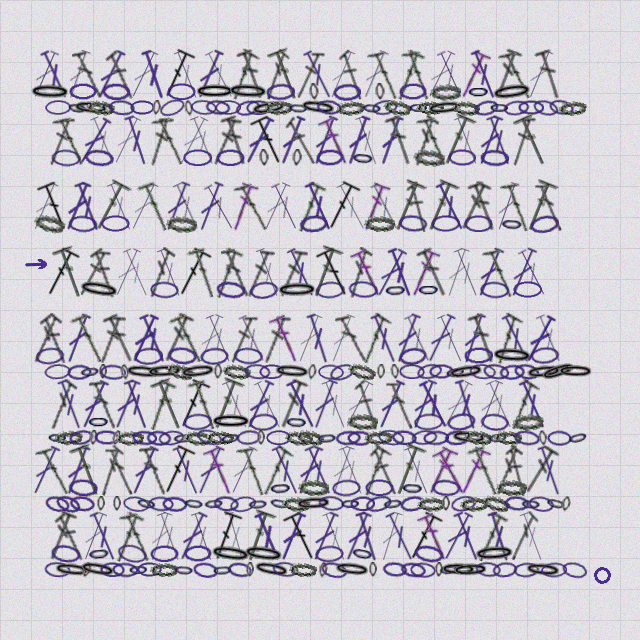chain: (77, 278, 121, 301), (539, 359, 578, 384), (490, 81, 534, 103), (209, 543, 252, 565), (242, 543, 285, 565), (78, 559, 117, 580), (252, 559, 291, 580), (473, 544, 516, 563), (227, 82, 269, 101), (491, 346, 533, 365), (32, 212, 66, 235), (250, 98, 288, 118), (447, 362, 485, 382), (29, 83, 71, 101), (276, 281, 318, 299), (116, 542, 148, 565), (299, 98, 337, 117), (179, 362, 217, 381), (333, 560, 371, 579), (194, 83, 236, 100), (210, 413, 252, 430), (72, 99, 110, 117), (426, 99, 464, 117), (124, 363, 162, 381), (525, 363, 563, 381), (53, 561, 91, 579), (524, 561, 562, 579), (529, 213, 560, 235), (413, 543, 444, 565), (158, 96, 187, 119), (446, 411, 477, 432), (50, 543, 81, 564), (273, 363, 311, 380), (450, 429, 488, 446), (512, 412, 544, 432), (165, 361, 195, 382), (347, 361, 377, 382), (481, 493, 511, 514), (146, 363, 183, 380), (295, 495, 332, 512), (215, 280, 246, 300), (328, 361, 356, 383), (54, 493, 82, 515), (195, 427, 224, 448), (364, 493, 393, 514), (413, 148, 445, 167), (84, 148, 114, 168), (249, 280, 279, 300), (35, 346, 65, 366), (398, 346, 428, 366), (452, 562, 489, 578), (480, 412, 509, 432), (398, 214, 428, 233), (348, 280, 378, 299), (167, 346, 197, 365), (530, 346, 560, 365), (295, 428, 325, 447), (68, 478, 98, 497), (234, 98, 262, 118), (229, 494, 257, 514), (320, 560, 348, 580), (430, 83, 461, 101), (166, 215, 197, 233), (557, 364, 594, 379), (440, 562, 477, 577), (383, 98, 412, 117), (299, 214, 328, 233), (473, 98, 500, 118), (532, 98, 559, 118), (51, 149, 81, 167), (68, 215, 98, 233), (315, 281, 345, 299), (233, 347, 263, 365), (431, 479, 461, 497), (44, 494, 71, 514), (561, 560, 588, 580), (371, 98, 399, 117), (482, 362, 510, 381), (377, 428, 405, 447), (364, 215, 395, 232), (347, 413, 378, 430), (298, 479, 329, 496), (496, 479, 527, 496), (350, 543, 375, 564), (266, 83, 295, 101), (336, 99, 365, 117), (558, 99, 587, 117), (480, 149, 509, 167), (150, 281, 179, 299), (480, 281, 509, 299), (134, 347, 163, 365), (200, 347, 229, 365), (183, 413, 212, 431), (249, 413, 278, 431), (414, 413, 443, 431), (332, 479, 361, 497), (315, 545, 344, 563), (548, 98, 575, 117), (416, 362, 443, 381), (513, 362, 540, 381), (68, 428, 95, 447), (399, 494, 426, 513), (450, 494, 477, 513), (333, 83, 361, 101), (122, 495, 150, 513), (167, 83, 196, 100), (86, 99, 115, 116), (264, 99, 293, 116), (183, 149, 212, 166), (216, 149, 245, 166), (101, 215, 130, 232), (431, 215, 460, 232), (464, 215, 493, 232), (513, 281, 542, 298), (464, 347, 493, 364), (222, 363, 251, 380), (54, 429, 83, 446), (364, 429, 393, 446), (464, 429, 493, 446), (365, 479, 394, 496), (150, 545, 179, 562), (503, 99, 530, 117), (158, 429, 185, 447), (513, 429, 540, 447), (192, 561, 219, 579), (69, 83, 97, 100), (102, 83, 130, 100), (399, 83, 427, 100), (316, 149, 344, 166), (448, 149, 476, 166), (184, 545, 212, 562), (528, 495, 554, 513), (227, 561, 253, 579), (400, 561, 426, 579), (108, 99, 135, 116), (190, 99, 217, 116), (44, 363, 71, 380), (244, 363, 271, 380), (469, 363, 496, 380), (411, 429, 438, 446), (318, 495, 345, 512), (44, 561, 71, 578), (272, 561, 299, 578), (566, 428, 590, 447), (544, 494, 568, 513), (87, 544, 111, 563), (452, 100, 480, 116), (116, 430, 144, 446), (184, 430, 212, 446), (285, 430, 313, 446), (282, 496, 310, 512), (417, 496, 445, 512), (460, 496, 488, 512), (205, 99, 231, 116), (316, 99, 342, 116), (236, 429, 262, 446), (391, 429, 417, 446), (444, 429, 470, 446), (69, 495, 95, 512), (213, 495, 239, 512), (504, 495, 530, 512), (382, 561, 408, 578), (475, 561, 501, 578), (492, 561, 518, 578), (135, 494, 158, 513), (268, 494, 291, 513), (351, 149, 375, 167), (500, 215, 524, 233), (513, 562, 540, 578), (416, 100, 444, 115), (206, 430, 234, 445), (494, 430, 522, 445), (150, 562, 178, 577), (289, 562, 317, 577), (100, 364, 126, 380), (318, 364, 344, 380), (499, 364, 525, 380), (146, 430, 172, 446), (335, 430, 361, 446), (423, 430, 449, 446), (148, 496, 174, 512), (112, 562, 138, 578), (410, 562, 436, 578), (541, 562, 567, 578), (66, 99, 89, 117), (384, 281, 407, 299), (444, 363, 467, 381), (285, 413, 308, 431), (219, 429, 242, 447), (269, 479, 292, 497), (401, 479, 424, 497), (67, 364, 92, 380), (132, 430, 157, 446), (347, 430, 372, 446), (547, 430, 572, 446), (162, 496, 187, 512), (467, 83, 490, 100), (417, 281, 440, 298), (87, 413, 110, 430), (45, 100, 71, 115), (215, 100, 241, 115), (518, 100, 544, 115), (399, 364, 425, 379), (130, 100, 155, 115), (246, 100, 271, 115), (259, 364, 284, 379), (429, 364, 454, 379), (94, 430, 119, 445), (266, 430, 291, 445), (350, 496, 375, 511), (100, 562, 125, 577), (137, 562, 162, 577), (79, 363, 101, 380), (487, 429, 509, 446), (183, 495, 205, 512), (203, 495, 225, 512), (382, 495, 404, 512), (438, 561, 460, 578), (361, 100, 383, 116), (172, 430, 194, 446), (316, 430, 338, 446), (247, 496, 269, 512), (520, 496, 542, 512), (173, 562, 195, 578), (288, 100, 309, 116), (212, 562, 233, 578), (408, 100, 429, 115), (489, 100, 510, 115), (47, 430, 68, 445), (340, 496, 361, 511), (128, 562, 149, 577), (111, 430, 122, 446), (81, 562, 92, 578), (309, 83, 319, 100), (375, 83, 385, 100), (259, 149, 269, 166), (292, 149, 302, 166), (184, 100, 194, 116), (120, 364, 130, 380), (307, 364, 317, 380), (538, 430, 548, 446), (561, 496, 571, 512), (318, 562, 328, 578), (390, 364, 400, 379), (152, 100, 161, 115), (89, 430, 98, 445), (99, 364, 107, 379), (214, 364, 222, 379), (377, 364, 385, 379), (257, 430, 265, 445), (97, 496, 105, 511), (113, 496, 121, 511), (442, 496, 450, 511), (246, 562, 254, 577), (369, 562, 377, 577), (435, 562, 443, 577)
double: (89, 179, 132, 234), (321, 179, 362, 234), (40, 246, 81, 300), (172, 246, 213, 300), (403, 510, 444, 564), (157, 47, 197, 102), (249, 113, 289, 168), (437, 113, 477, 168), (513, 113, 553, 168), (315, 245, 355, 300), (157, 443, 197, 498), (282, 509, 322, 564), (233, 180, 273, 234), (388, 179, 427, 234), (421, 179, 460, 234), (520, 179, 559, 234), (150, 377, 189, 432), (173, 377, 212, 432), (35, 444, 74, 498), (256, 444, 295, 498), (470, 510, 509, 564), (267, 47, 305, 102), (36, 179, 74, 234), (306, 245, 344, 300), (207, 377, 245, 432), (69, 443, 107, 498), (389, 443, 427, 498), (74, 115, 114, 167), (200, 181, 240, 233), (520, 445, 560, 497), (498, 48, 536, 102), (151, 114, 189, 168), (69, 312, 107, 366), (168, 312, 206, 366), (52, 245, 89, 300), (207, 509, 244, 564), (240, 509, 277, 564), (371, 247, 410, 299), (520, 313, 559, 365), (431, 445, 470, 497), (201, 48, 239, 101), (174, 114, 212, 167), (240, 114, 278, 167), (333, 180, 371, 233), (366, 180, 404, 233), (514, 246, 552, 299), (339, 378, 377, 431), (415, 378, 453, 431), (438, 378, 476, 431), (438, 510, 476, 563), (389, 48, 426, 102), (52, 114, 89, 168), (290, 180, 327, 234), (356, 312, 393, 366), (504, 378, 541, 432), (108, 510, 145, 564), (92, 48, 129, 101), (125, 48, 162, 101), (300, 48, 337, 101), (422, 48, 459, 101), (455, 48, 492, 101), (108, 114, 145, 167), (125, 180, 162, 233), (267, 180, 304, 233), (432, 180, 469, 233), (283, 246, 320, 299), (349, 246, 386, 299), (102, 312, 139, 365), (234, 312, 271, 365), (422, 312, 459, 365), (498, 312, 535, 365), (250, 378, 287, 431), (283, 378, 320, 431), (455, 444, 492, 497), (174, 510, 211, 563), (382, 510, 419, 563), (225, 48, 261, 102), (367, 48, 403, 102), (416, 114, 452, 168), (136, 180, 172, 234), (208, 246, 244, 300), (482, 246, 518, 300), (357, 444, 393, 498), (466, 444, 502, 498), (119, 510, 155, 564), (27, 48, 63, 101), (37, 48, 73, 101), (433, 48, 469, 101), (317, 114, 353, 167), (169, 180, 205, 233), (258, 180, 294, 233), (301, 180, 337, 233), (456, 180, 492, 233), (109, 246, 145, 299), (416, 246, 452, 299), (126, 312, 162, 365), (159, 312, 195, 365), (400, 312, 436, 365), (433, 312, 469, 365), (76, 378, 112, 431), (218, 378, 254, 431), (241, 378, 277, 431), (482, 378, 518, 431), (515, 378, 551, 431), (27, 444, 63, 497), (126, 444, 162, 497), (192, 444, 228, 497), (225, 444, 261, 497), (268, 444, 304, 497), (301, 444, 337, 497), (423, 444, 459, 497), (416, 510, 452, 563), (142, 378, 177, 432), (192, 48, 227, 101), (324, 48, 359, 101), (357, 48, 392, 101), (522, 48, 557, 101), (86, 114, 121, 167), (27, 180, 62, 233), (60, 180, 95, 233), (103, 180, 138, 233), (119, 246, 154, 299), (406, 246, 441, 299), (472, 246, 507, 299), (505, 246, 540, 299), (136, 312, 171, 365), (202, 312, 237, 365), (268, 312, 303, 365), (367, 312, 402, 365), (532, 312, 567, 365), (109, 378, 144, 431), (373, 378, 408, 431), (169, 444, 204, 497), (202, 444, 237, 497), (400, 444, 435, 497), (86, 510, 121, 563), (251, 510, 286, 563), (307, 510, 342, 563), (340, 510, 375, 563), (283, 116, 320, 166), (401, 48, 435, 102), (500, 180, 534, 234), (27, 313, 63, 364), (490, 312, 524, 366), (186, 378, 220, 432), (236, 444, 270, 498), (170, 48, 204, 101), (467, 48, 501, 101), (186, 114, 220, 167), (275, 114, 309, 167), (450, 114, 484, 167), (71, 180, 105, 233), (160, 180, 194, 233), (193, 180, 227, 233), (467, 180, 501, 233), (153, 246, 187, 299), (450, 246, 484, 299), (193, 312, 227, 365), (292, 312, 326, 365), (325, 312, 359, 365), (275, 378, 309, 431), (318, 378, 352, 431), (473, 378, 507, 431), (292, 444, 326, 497), (335, 444, 369, 497), (44, 510, 78, 563), (77, 510, 111, 563), (275, 510, 309, 563), (318, 510, 352, 563), (450, 510, 484, 563), (76, 247, 111, 298), (489, 445, 524, 496), (53, 511, 88, 562), (186, 246, 219, 300), (104, 49, 138, 101), (335, 313, 369, 365), (44, 379, 78, 431), (236, 48, 269, 101), (490, 48, 523, 101), (308, 114, 341, 167), (351, 114, 384, 167), (384, 114, 417, 167), (473, 114, 506, 167), (483, 114, 516, 167), (358, 180, 391, 233), (252, 246, 285, 299), (384, 246, 417, 299), (61, 312, 94, 365), (391, 312, 424, 365), (467, 312, 500, 365), (54, 378, 87, 431), (120, 378, 153, 431), (308, 378, 341, 431), (407, 378, 440, 431), (61, 444, 94, 497), (153, 510, 186, 563), (516, 510, 549, 563), (506, 511, 540, 562), (209, 115, 242, 167), (143, 247, 176, 299), (38, 313, 71, 365), (62, 48, 94, 101), (138, 48, 170, 101), (534, 48, 566, 101), (220, 114, 252, 167), (342, 114, 374, 167), (375, 114, 407, 167), (227, 180, 259, 233), (491, 180, 523, 233), (441, 246, 473, 299), (326, 444, 358, 497), (534, 444, 566, 497), (144, 510, 176, 563), (187, 510, 219, 563), (368, 445, 401, 496), (72, 49, 104, 101), (408, 115, 440, 167), (243, 247, 275, 299), (276, 247, 308, 299), (121, 114, 152, 167), (303, 312, 334, 365), (458, 312, 489, 365), (451, 378, 482, 431), (352, 510, 383, 563), (375, 510, 406, 563), (484, 510, 515, 563), (293, 49, 325, 100), (227, 313, 258, 365), (260, 313, 291, 365), (105, 445, 136, 497), (221, 510, 251, 563), (261, 49, 291, 101), (337, 49, 367, 101), (535, 181, 565, 233), (89, 247, 119, 299), (221, 247, 251, 299), (343, 247, 373, 299), (96, 313, 126, 365), (386, 379, 416, 431), (46, 115, 75, 167), (89, 379, 118, 431), (353, 379, 382, 431), (96, 445, 125, 497), (139, 445, 168, 497), (146, 115, 174, 167), (509, 115, 536, 167), (405, 181, 431, 233), (504, 445, 530, 497)
noise: (591, 564, 613, 586), (24, 259, 49, 269)
